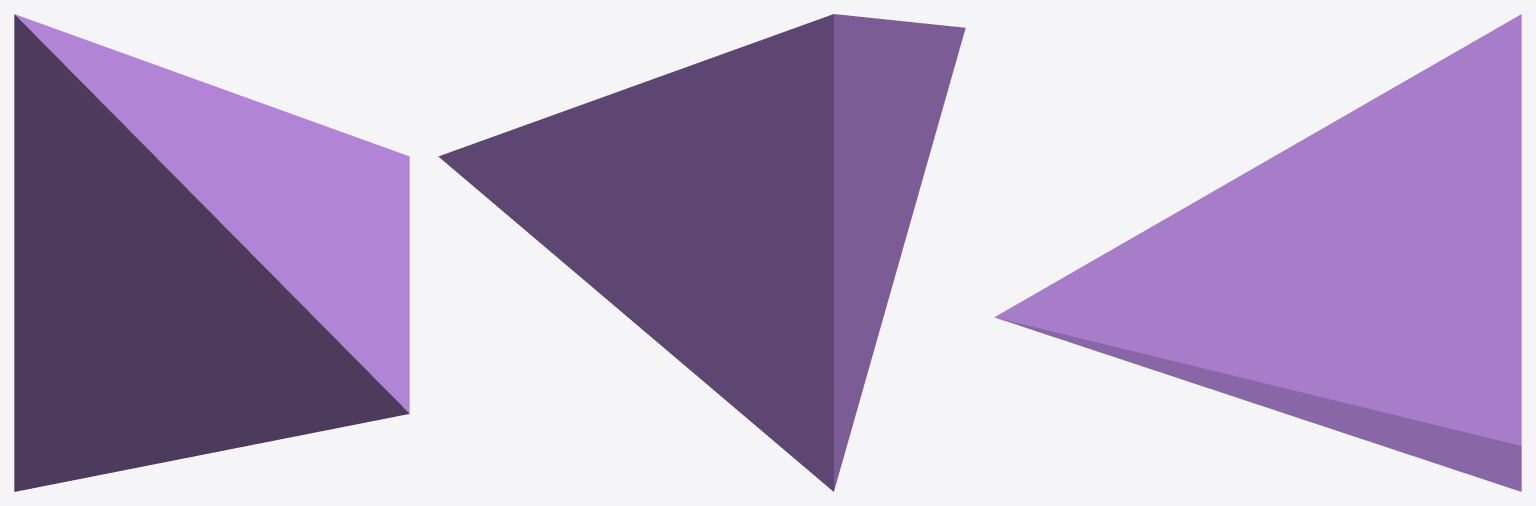
The model's file is _etraedro.fbx.
3 renders of one model, left to right at view 1: azimuth 30°, elevation 25°; view 2: azimuth 150°, elevation 25°; view 3: azimuth 270°, elevation 25°, orthographic.
Visible parts, largest first — view 1: pPlatonic5; view 2: pPlatonic5; view 3: pPlatonic5.
Part boxes in pixels (x1,y1,x2,y2): pPlatonic5: (14,14,409,491); pPlatonic5: (438,14,965,491); pPlatonic5: (994,14,1521,491).
Size of the model in its own units: 3.48 by 4.02 by 4.02.
